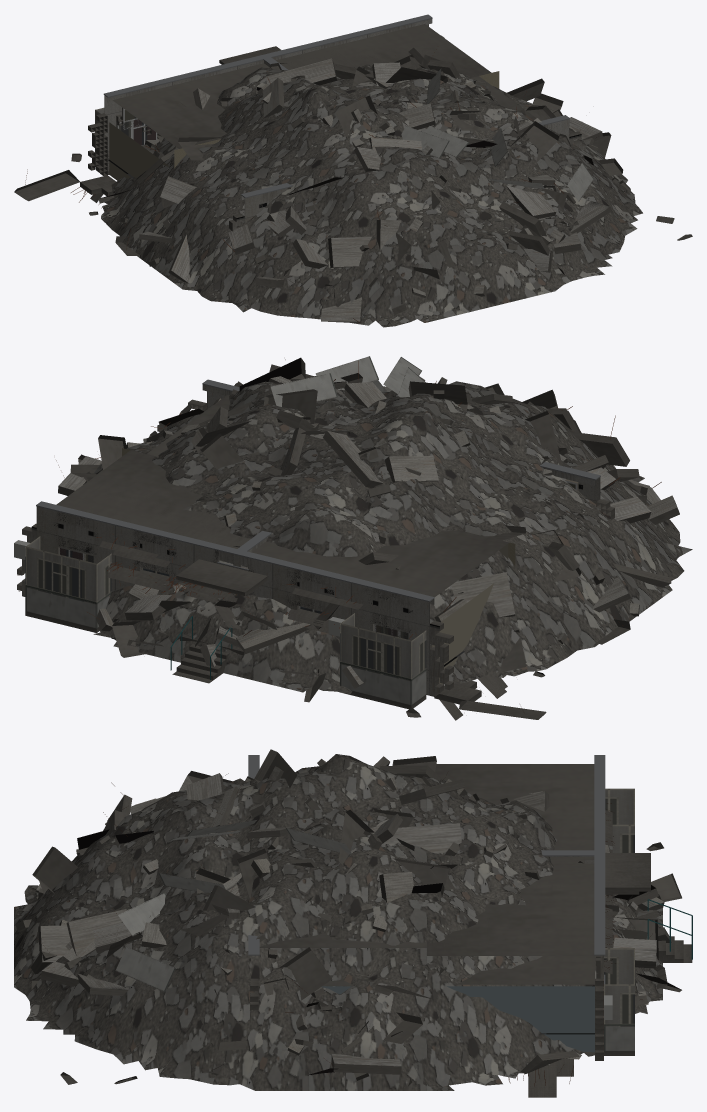
Rendered from bld_hr_a.glb.
3 views of the same model, one above another, from view 1: azimuth 30°, elevation 25°; view 2: azimuth 150°, elevation 25°; view 3: azimuth 270°, elevation 25° (orthographic). The views are drawn at different scales.
Visible parts, largest first — view 1: rubble_xl, sec_ground_F_s2c, sec_ground_F_s2a, sec_top0_F_s0, edge_L_F_a, sec_ground_F_s2b, sec_ground_F_s0, sec_floor0_F_s0, sec_top0_Y_s0, sec_ground_Y_s0, sec_ground_Y_s2a, edge_L_F_b (+1 smaller); view 2: rubble_xl, sec_ground_F_s0, sec_floor0_F_s0, sec_ground_F_s2c, sec_floor1_F_s0, sec_top0_F_s0, sec_ground_F_s2b, sec_ground_F_s2a, edge_L_F_a, rubble_m, cor_ground_F_s2a, rubble_l (+7 smaller); view 3: rubble_xl, sec_ground_F_s2a, sec_ground_F_s2c, edge_R_F_a, sec_floor1_F_s0, sec_ground_F_s0, sec_floor0_F_s2a, sec_top0_F_s0, rubble_l, edge_R_F_b, sec_ground_F_s2b, sec_ground_Y_s2a (+1 smaller).
Part boxes in pixels (box(x1,y1,x2,y2)): rubble_xl: box(14, 47, 692, 327); sec_ground_F_s2c: box(104, 63, 270, 149); sec_ground_F_s2a: box(285, 24, 491, 77); sec_top0_F_s0: box(103, 14, 432, 114); edge_L_F_a: box(73, 113, 169, 208); sec_ground_F_s2b: box(276, 27, 479, 77); sec_ground_F_s0: box(104, 24, 499, 170); sec_floor0_F_s0: box(95, 111, 157, 174); sec_top0_Y_s0: box(241, 115, 569, 217); sec_ground_Y_s0: box(174, 71, 569, 217); sec_ground_Y_s2a: box(470, 76, 569, 139); edge_L_F_b: box(71, 124, 116, 202); rubble_xl: box(56, 356, 692, 719); sec_ground_F_s0: box(36, 448, 515, 683); sec_floor0_F_s0: box(25, 530, 429, 709); sec_ground_F_s2c: box(251, 530, 509, 667); sec_floor1_F_s0: box(25, 536, 426, 679); sec_top0_F_s0: box(36, 501, 434, 625); sec_ground_F_s2b: box(70, 453, 272, 589); sec_ground_F_s2a: box(36, 450, 230, 589); edge_L_F_a: box(430, 583, 507, 704); rubble_m: box(93, 575, 318, 683); cor_ground_F_s2a: box(170, 512, 267, 566); rubble_l: box(87, 510, 444, 689); rubble_xl: box(14, 749, 681, 1090); sec_ground_F_s2a: box(427, 869, 615, 986); sec_ground_F_s2c: box(435, 764, 612, 859); edge_R_F_a: box(447, 978, 603, 1083); sec_floor1_F_s0: box(604, 788, 634, 1024); sec_ground_F_s0: box(600, 853, 692, 984); sec_floor0_F_s2a: box(454, 947, 612, 984); sec_top0_F_s0: box(594, 755, 605, 955); rubble_l: box(452, 885, 667, 1065); edge_R_F_b: box(519, 1008, 603, 1097); sec_ground_F_s2b: box(427, 863, 615, 969); sec_ground_Y_s2a: box(259, 933, 426, 947).
Size of what is drawn, in the model's own units: 24.14 by 7.45 by 23.02.
Materials: 1 (1 with a texture image).
